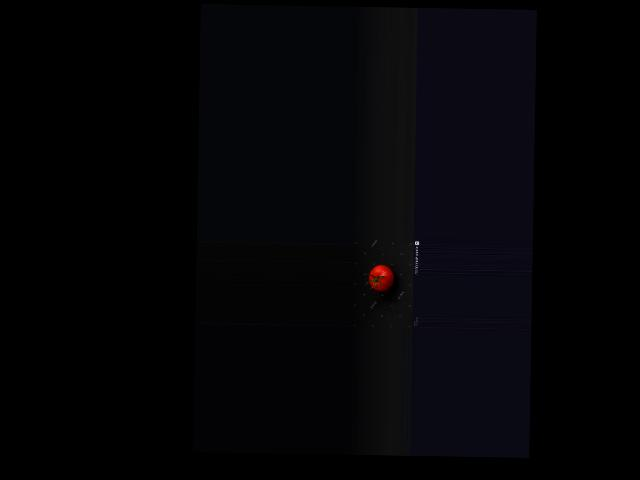tomato: (368, 264, 393, 292)
